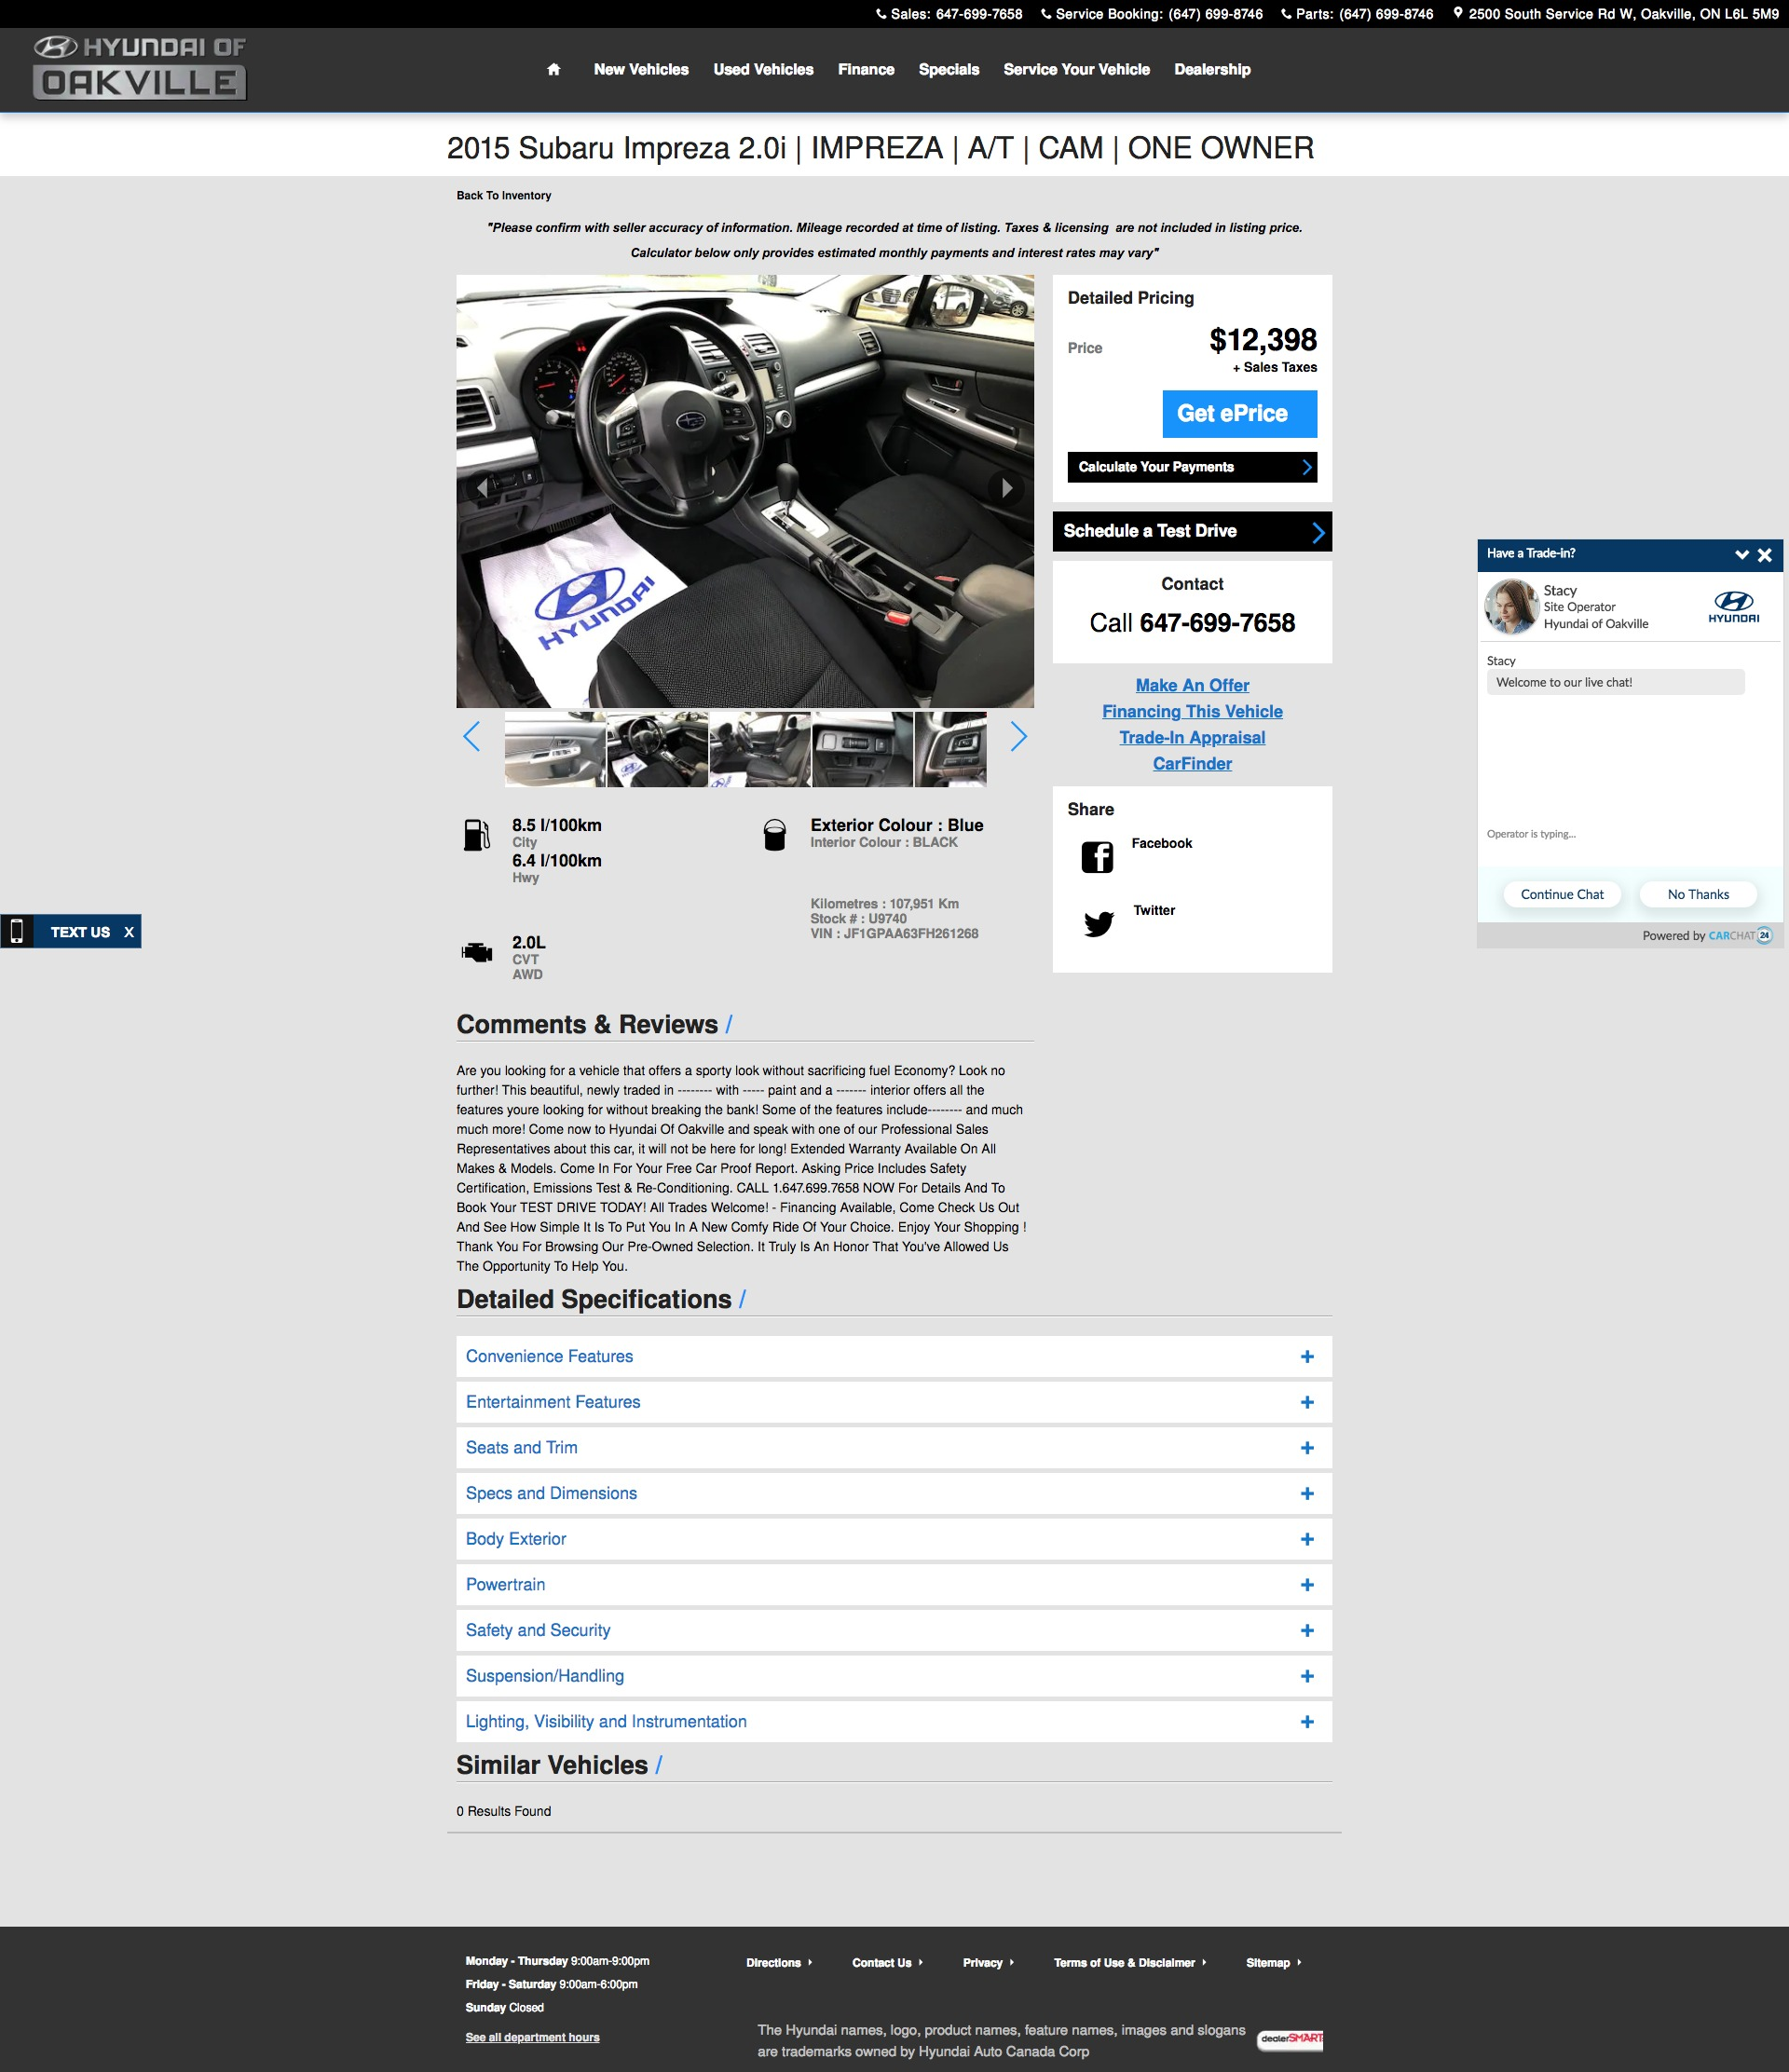car: (1010, 721, 1029, 754)
